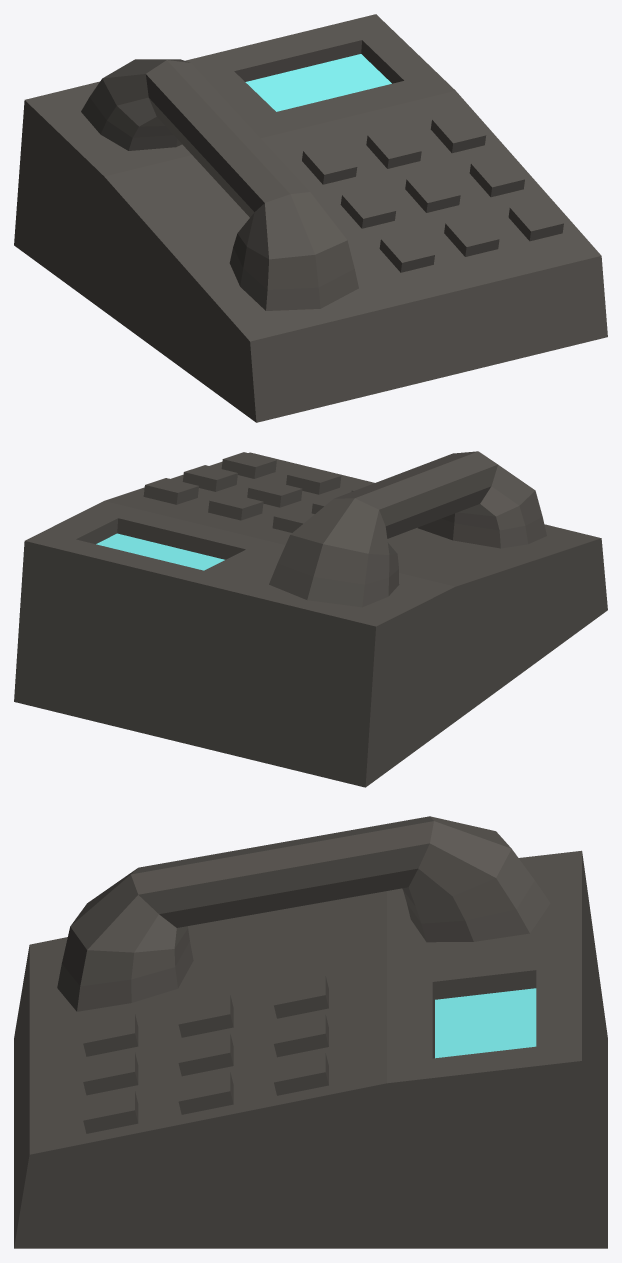
The model's file is Phone1.fbx.
3 renders of one model, top to bottom at view 1: azimuth 30°, elevation 25°; view 2: azimuth 150°, elevation 25°; view 3: azimuth 270°, elevation 25°, orthographic. The views are drawn at different scales.
Visible parts, largest first — view 1: Phone; view 2: Phone; view 3: Phone.
Boxes of the visible parts, x1,y1,x2,y2 form: Phone: (14,14,607,422); Phone: (14,451,607,787); Phone: (14,816,607,1248).
Size of the model in its own units: 28.8 by 17.02 by 34.4.
